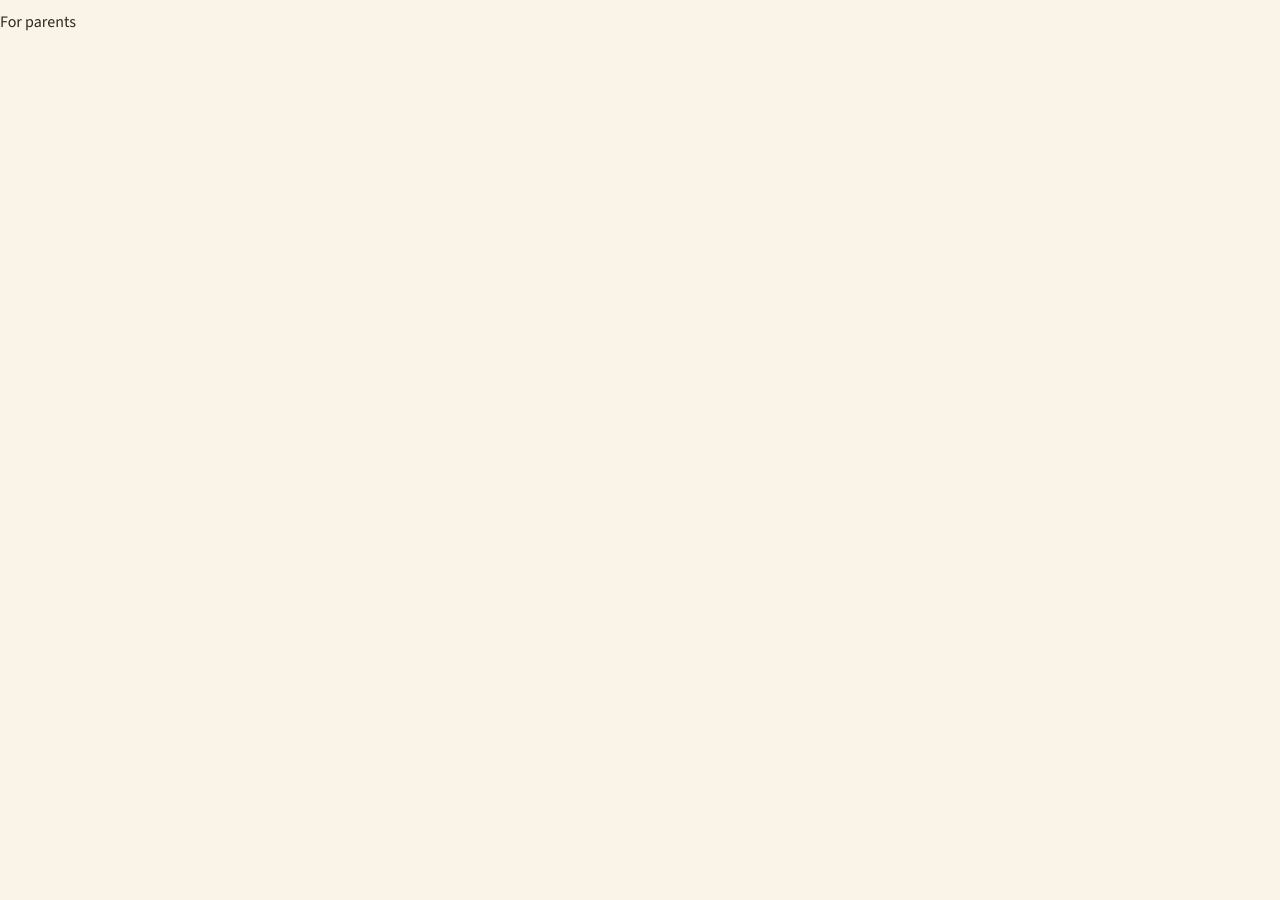
Test: ParentAreaExit › does not leave when the gate is cancelled
Click the button "For parents" at (38, 22), box [0,0,76,44]
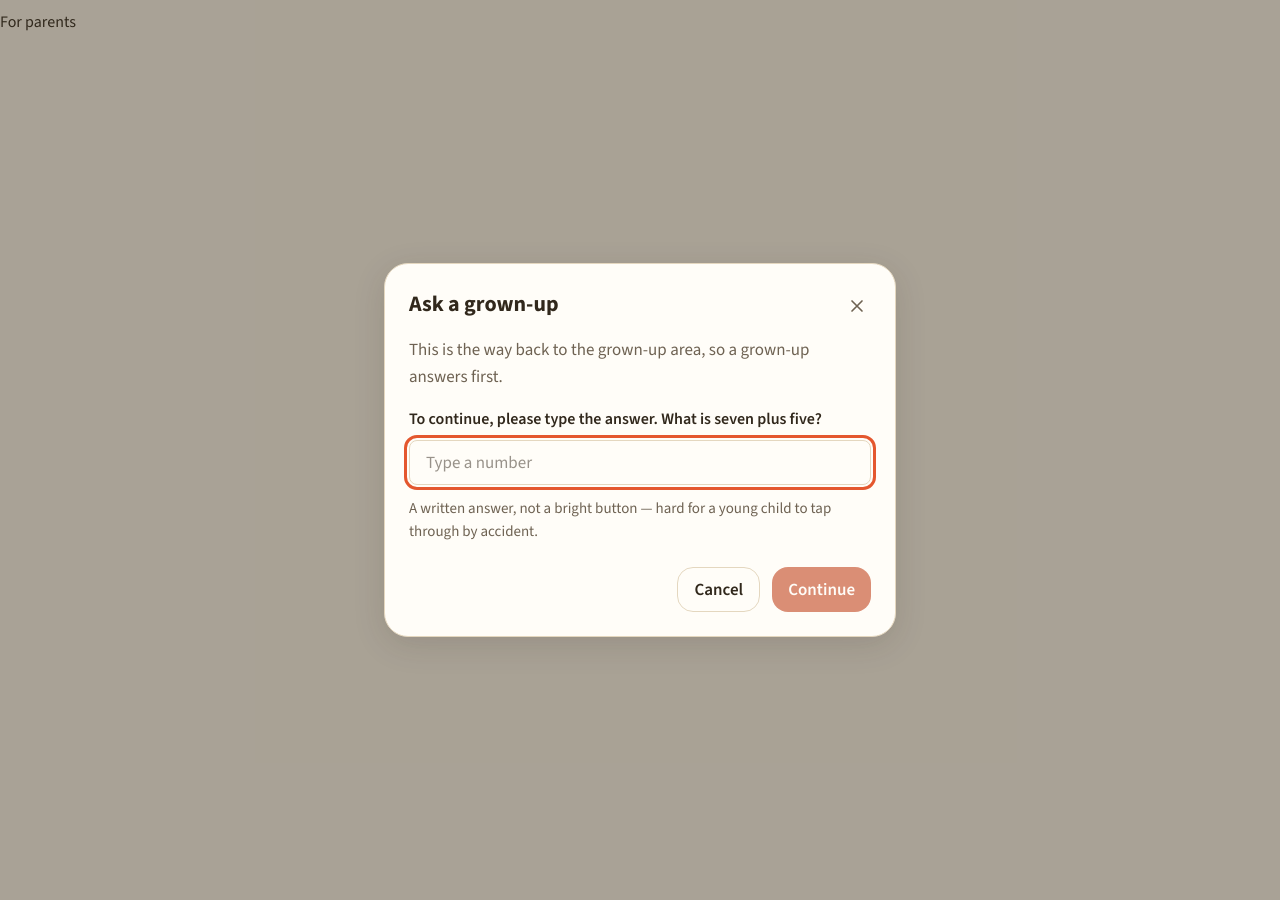
Click the button "Cancel" at (719, 590), box [677,567,760,612]
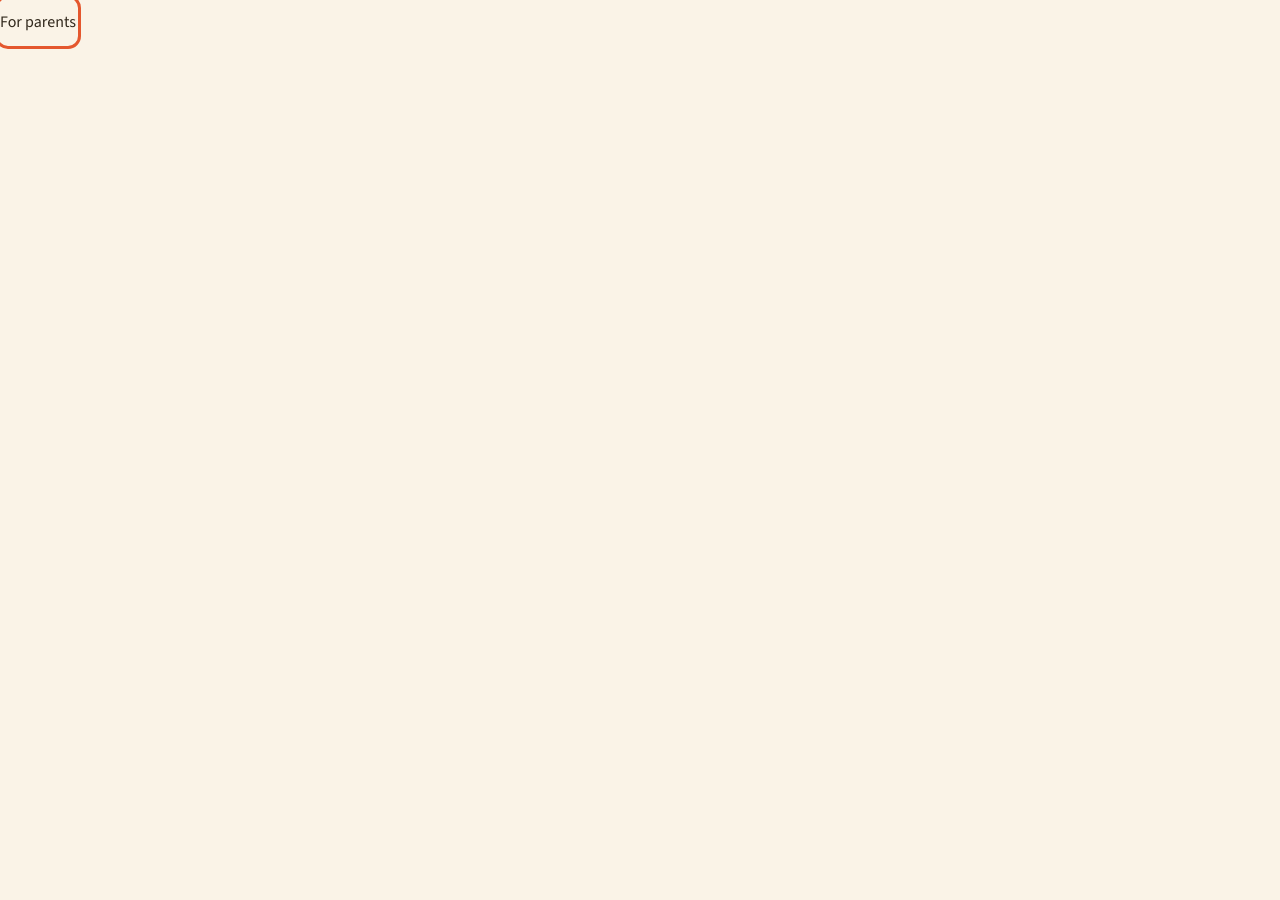
Check: the dialog is gone
